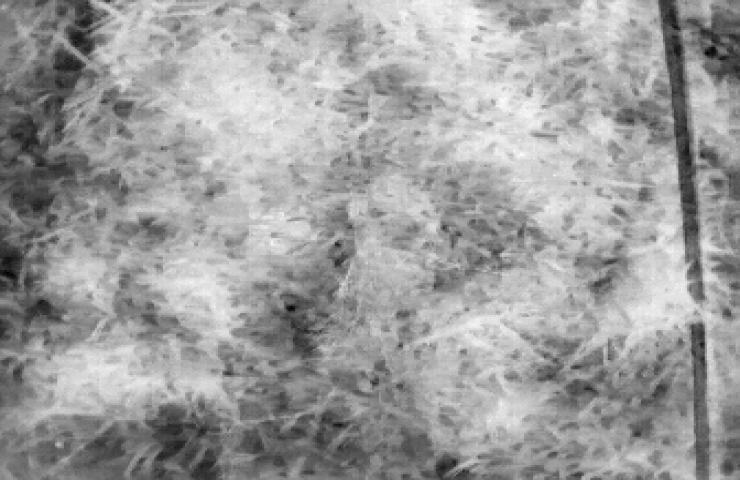landmines: (242, 201, 319, 261)
